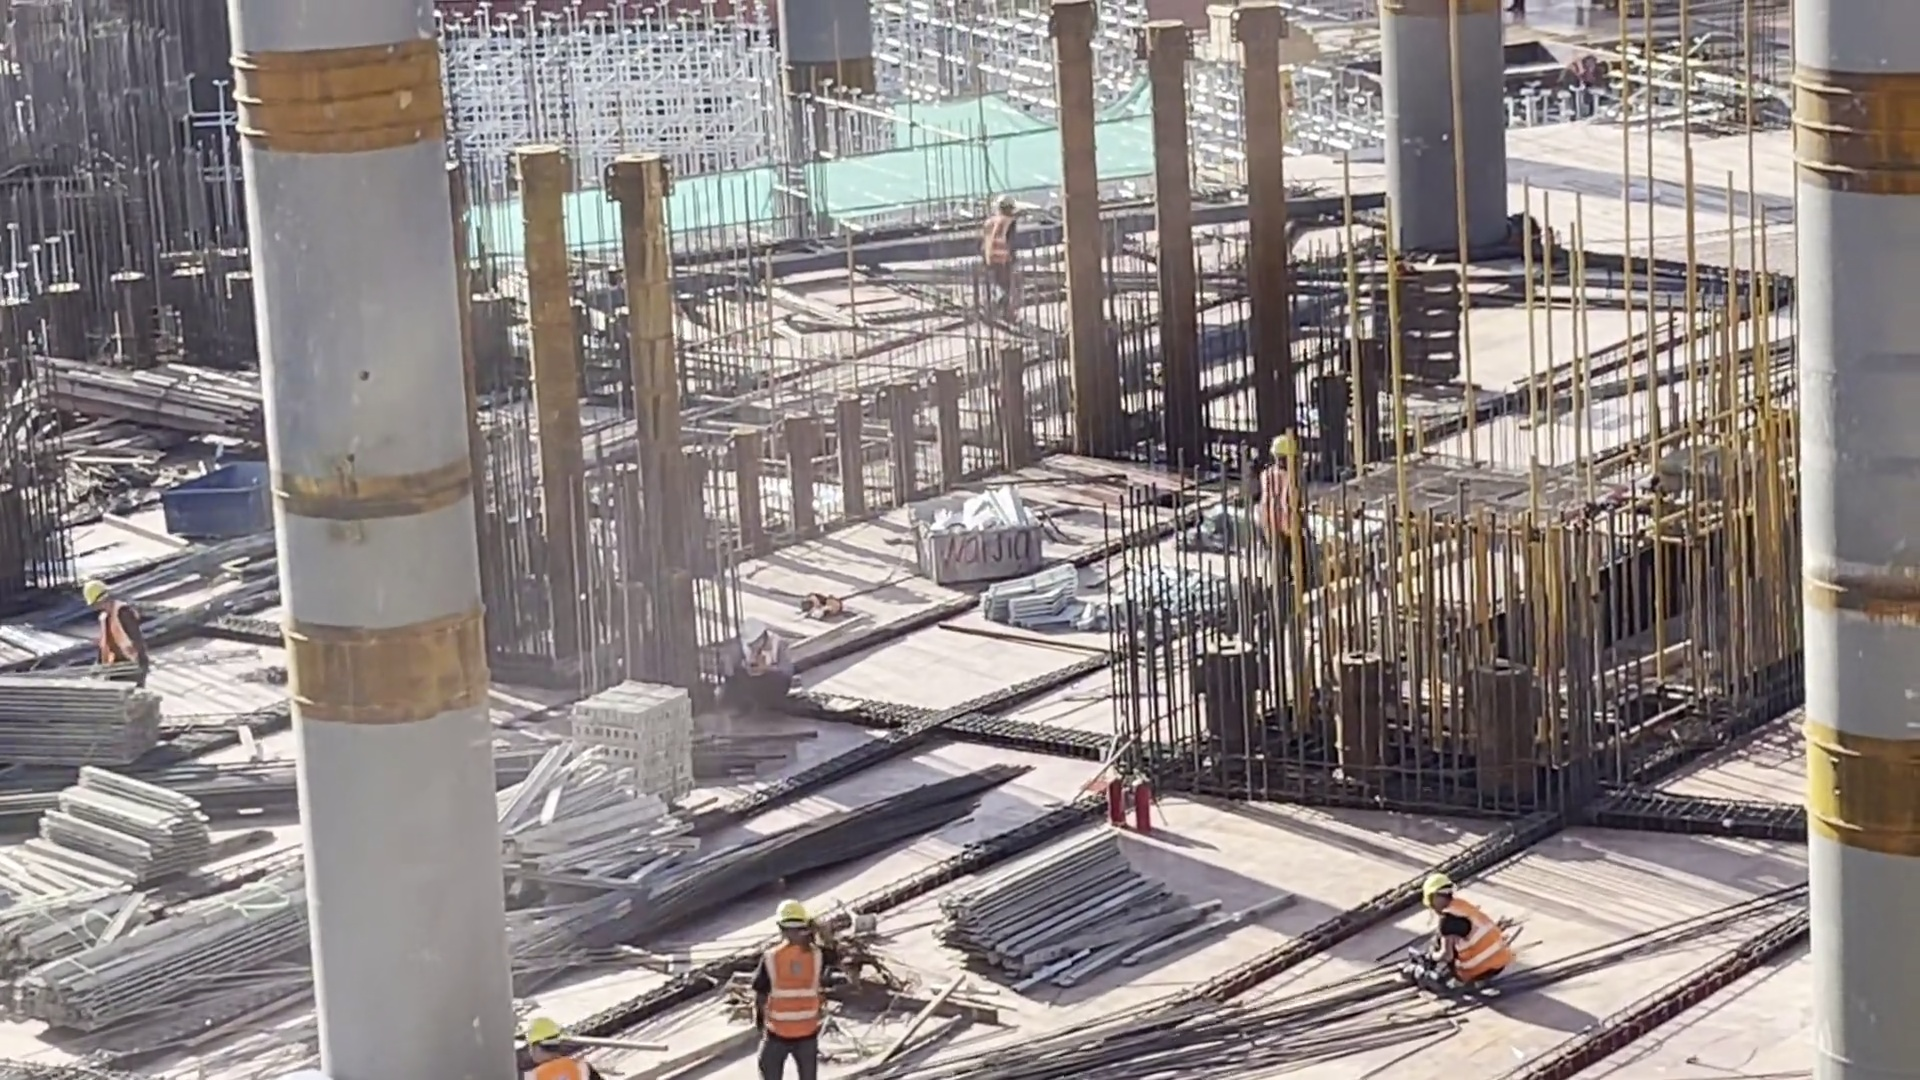helmet: (518, 1009, 559, 1046), (1266, 427, 1307, 463), (77, 572, 108, 608), (1425, 867, 1454, 900), (741, 623, 774, 652), (775, 894, 799, 932), (993, 180, 1017, 211)
person: (729, 889, 858, 1075), (1401, 861, 1528, 1013), (1244, 415, 1332, 594), (60, 564, 167, 705), (986, 180, 1032, 339), (726, 617, 801, 712), (496, 1011, 590, 1080)
vest: (759, 938, 821, 1034), (1434, 901, 1496, 983), (82, 604, 136, 664), (1258, 465, 1293, 549), (982, 209, 1011, 269)
